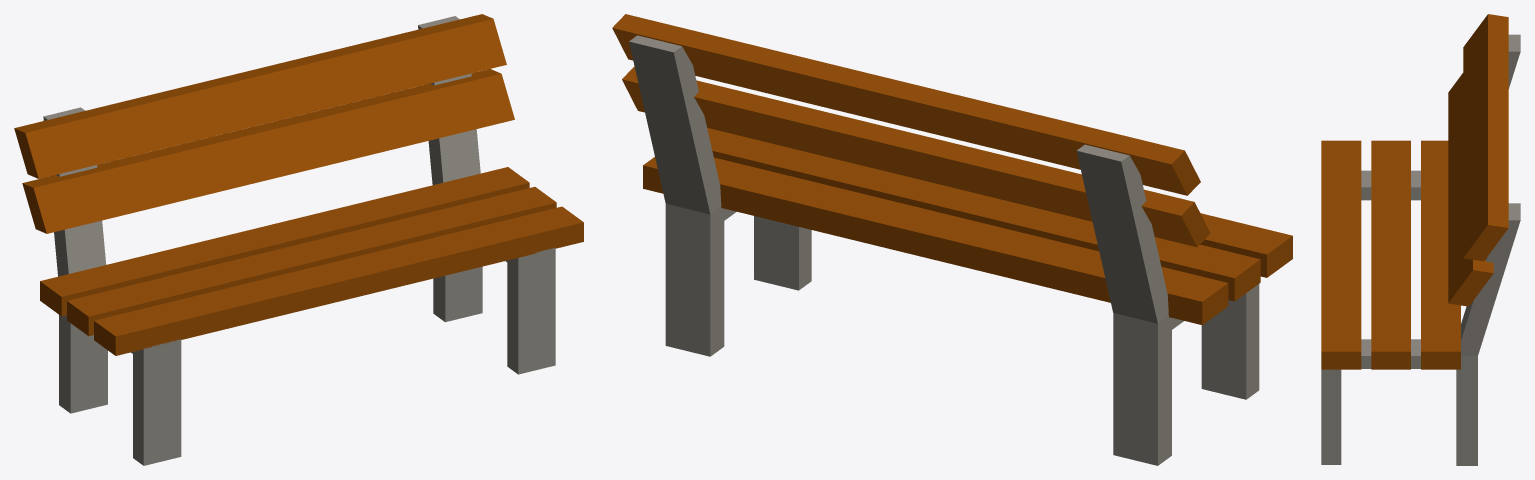
The model's file is Asset2CG.glb.
3 renders of one model, left to right at view 1: azimuth 30°, elevation 25°; view 2: azimuth 150°, elevation 25°; view 3: azimuth 270°, elevation 25°, orthographic. The views are drawn at different scales.
Parts seen in each view (by area): view 1: Rücklehne_2, Rücklehne_1, Sitzplanke_2, Bernhard die Bank, Sitzplanke_1, Fuß_2, Fuß_1; view 2: Fuß_2, Rücklehne_2, Bernhard die Bank, Fuß_1, Rücklehne_1, Sitzplanke_1, Sitzplanke_2; view 3: Rücklehne_2, Sitzplanke_2, Sitzplanke_1, Fuß_1, Bernhard die Bank, Rücklehne_1, Fuß_2.
Boxes of the visible parts, left/top/right/bottom form: Rücklehne_2: left=14, top=14, right=506, bottom=178; Rücklehne_1: left=22, top=69, right=514, bottom=233; Sitzplanke_2: left=94, top=206, right=583, bottom=355; Bernhard die Bank: left=40, top=167, right=529, bottom=316; Sitzplanke_1: left=67, top=187, right=556, bottom=336; Fuß_2: left=43, top=107, right=181, bottom=465; Fuß_1: left=418, top=16, right=555, bottom=374; Fuß_2: left=1076, top=144, right=1259, bottom=465; Rücklehne_2: left=612, top=14, right=1200, bottom=195; Bernhard die Bank: left=643, top=157, right=1228, bottom=325; Fuß_1: left=629, top=35, right=811, bottom=356; Rücklehne_1: left=622, top=66, right=1210, bottom=247; Sitzplanke_1: left=707, top=128, right=1260, bottom=301; Sitzplanke_2: left=1200, top=213, right=1292, bottom=277; Rücklehne_2: left=1463, top=14, right=1508, bottom=261; Sitzplanke_2: left=1321, top=140, right=1361, bottom=369; Sitzplanke_1: left=1371, top=140, right=1410, bottom=369; Fuß_1: left=1321, top=203, right=1520, bottom=465; Bernhard die Bank: left=1421, top=140, right=1460, bottom=369; Rücklehne_1: left=1448, top=73, right=1493, bottom=306; Fuß_2: left=1361, top=34, right=1520, bottom=200.
Size of the model in its own units: 0.616 by 0.3456 by 0.2461.
